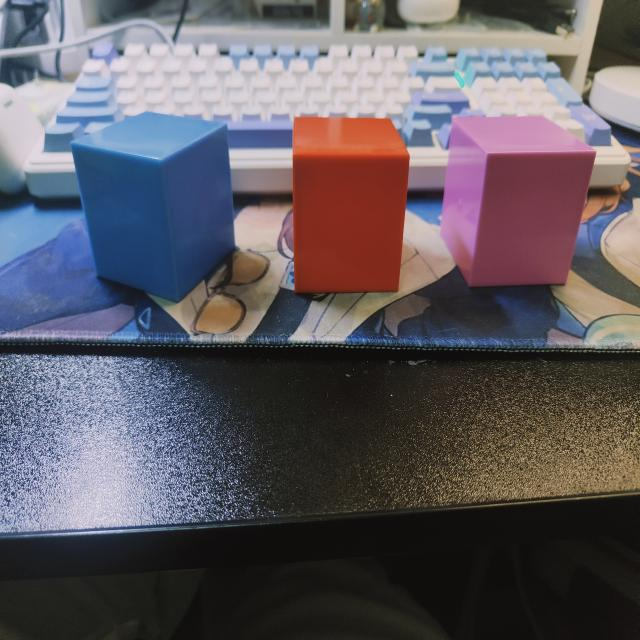blue: (71, 112, 235, 301)
pink: (441, 115, 595, 286)
red: (293, 117, 409, 293)
